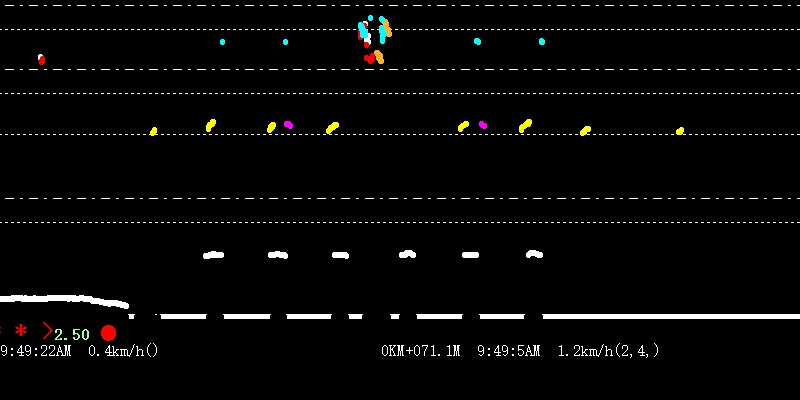J: (357, 4, 391, 64)
circle: (99, 323, 117, 343)
face_down: (535, 22, 548, 48)
star: (14, 320, 30, 339)
